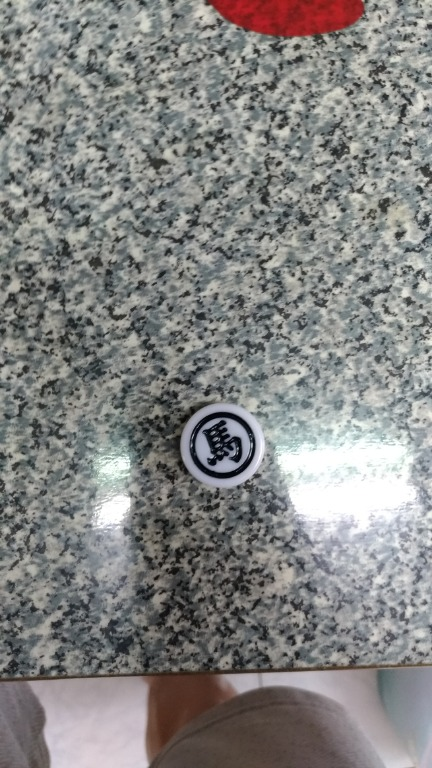b-knight: (168, 384, 283, 494)
